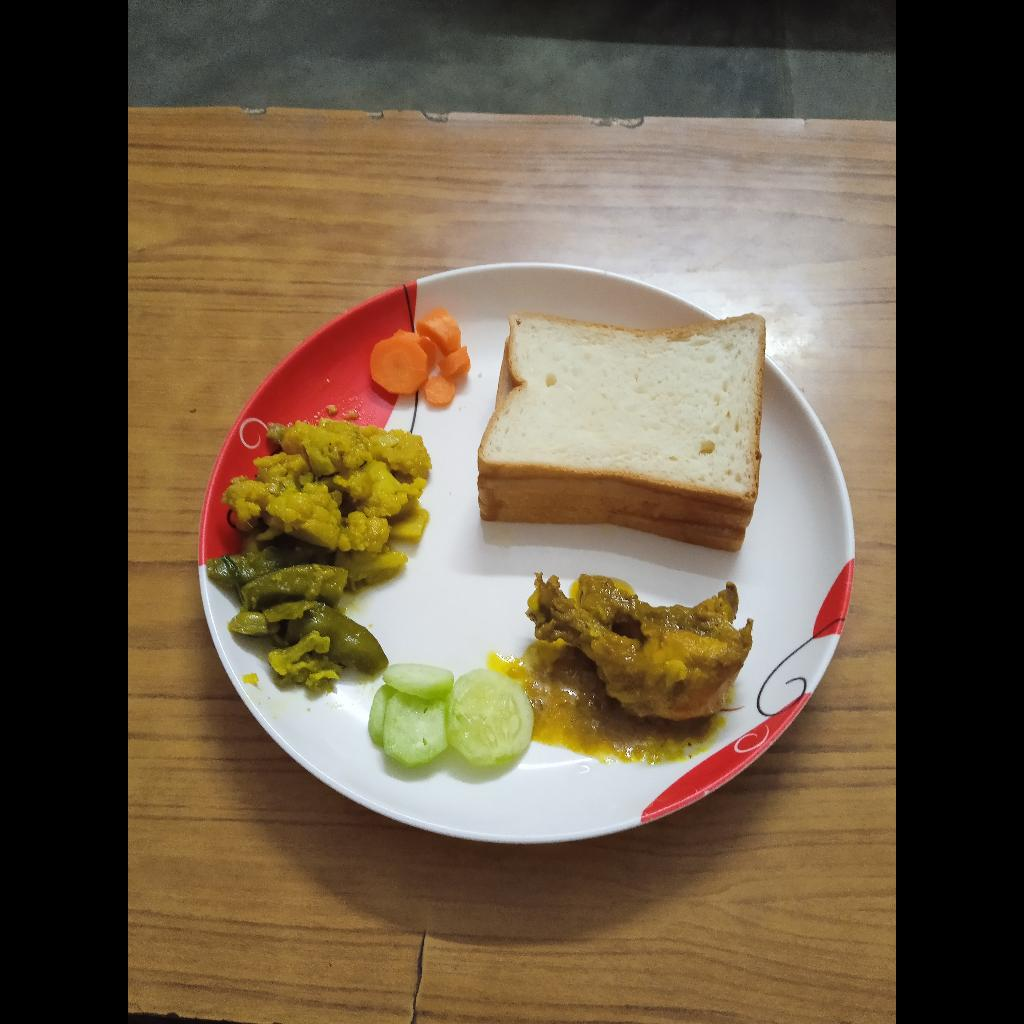bread: (470, 311, 767, 549)
carrot: (366, 309, 468, 402)
cauliflower: (233, 416, 428, 548)
chicken: (531, 571, 749, 724)
cucumber: (374, 666, 535, 770)
shim: (208, 548, 393, 690)
